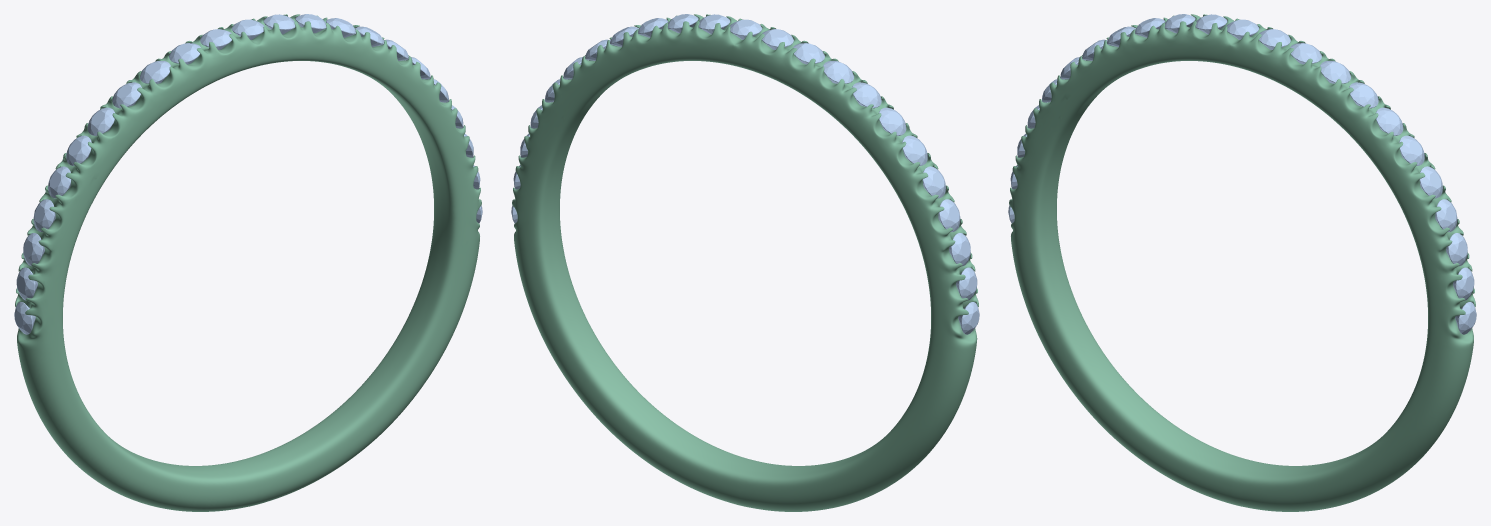
File: 1ct_3ct_pave.glb
3 renders of one model, left to right at view 1: azimuth 30°, elevation 25°; view 2: azimuth 150°, elevation 25°; view 3: azimuth 330°, elevation 25°, orthographic.
Parts seen in each view (by area): view 1: 1ct-3ct Pave.3dm, Round (×7); view 2: 1ct-3ct Pave.3dm, Round (×7); view 3: 1ct-3ct Pave.3dm, Round (×7).
Part boxes in pixels (x1=…): 1ct-3ct Pave.3dm: x1=15, y1=14, x2=481, y2=511; Round (×7): x1=23, y1=61, x2=170, y2=266; 1ct-3ct Pave.3dm: x1=512, y1=14, x2=978, y2=511; Round (×7): x1=823, y1=61, x2=970, y2=266; 1ct-3ct Pave.3dm: x1=1009, y1=14, x2=1475, y2=511; Round (×7): x1=1320, y1=61, x2=1467, y2=266.
Size of the model in its own units: 20.64 by 20.66 by 1.79.
